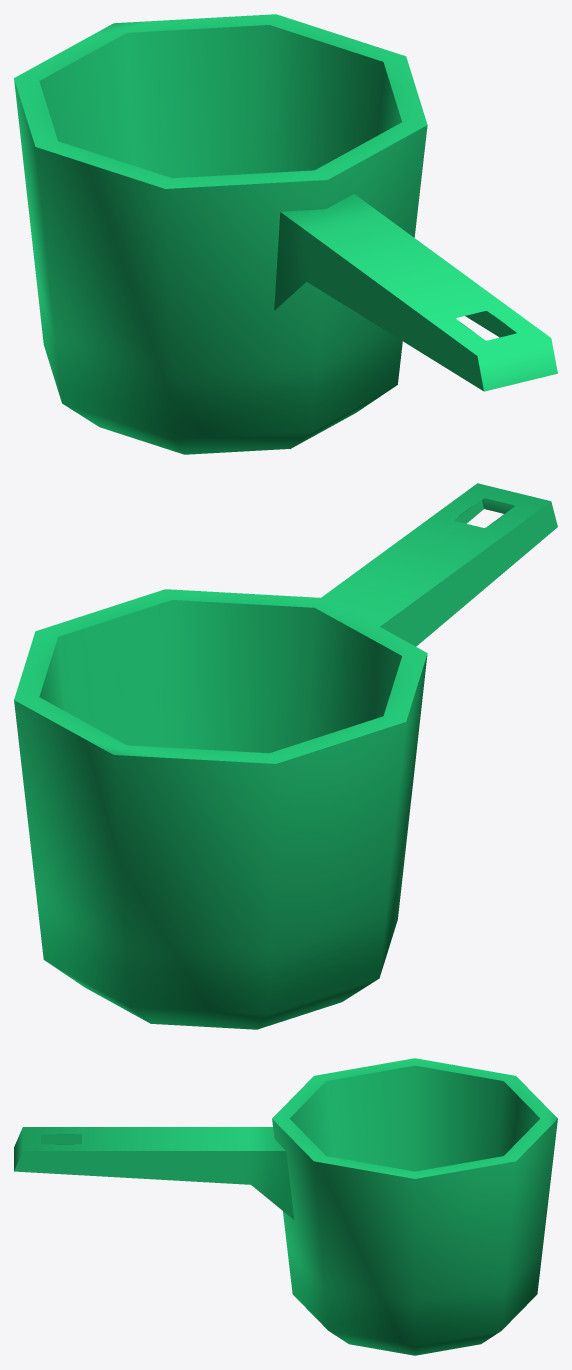
Rendered from BanyoSet_Tabo.fbx.
The picture shows the model from 3 angles, top to bottom: view 1: azimuth 30°, elevation 25°; view 2: azimuth 150°, elevation 25°; view 3: azimuth 270°, elevation 25°; orthographic projection. The views are drawn at different scales.
Parts seen in each view (by area): view 1: Tabo; view 2: Tabo; view 3: Tabo.
Part boxes in pixels (bbox=[...]): Tabo: bbox=[14, 14, 557, 454]; Tabo: bbox=[14, 483, 557, 1029]; Tabo: bbox=[14, 1058, 557, 1355].
Bounding box in the file's own units: 21.97 × 16.76 × 41.8.
